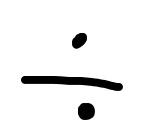div: (21, 31, 122, 119)
